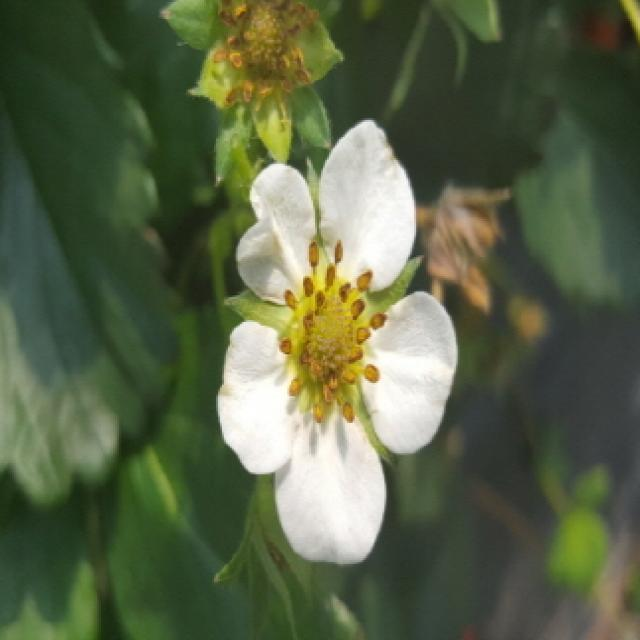Blossom Blight: (271, 233, 395, 433), (203, 0, 319, 119)
